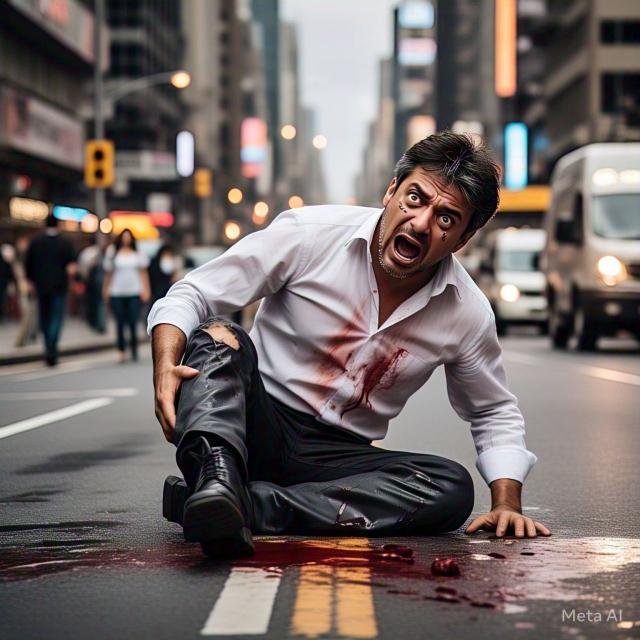injury: (370, 130, 500, 314)
no injury: (148, 130, 549, 558)
